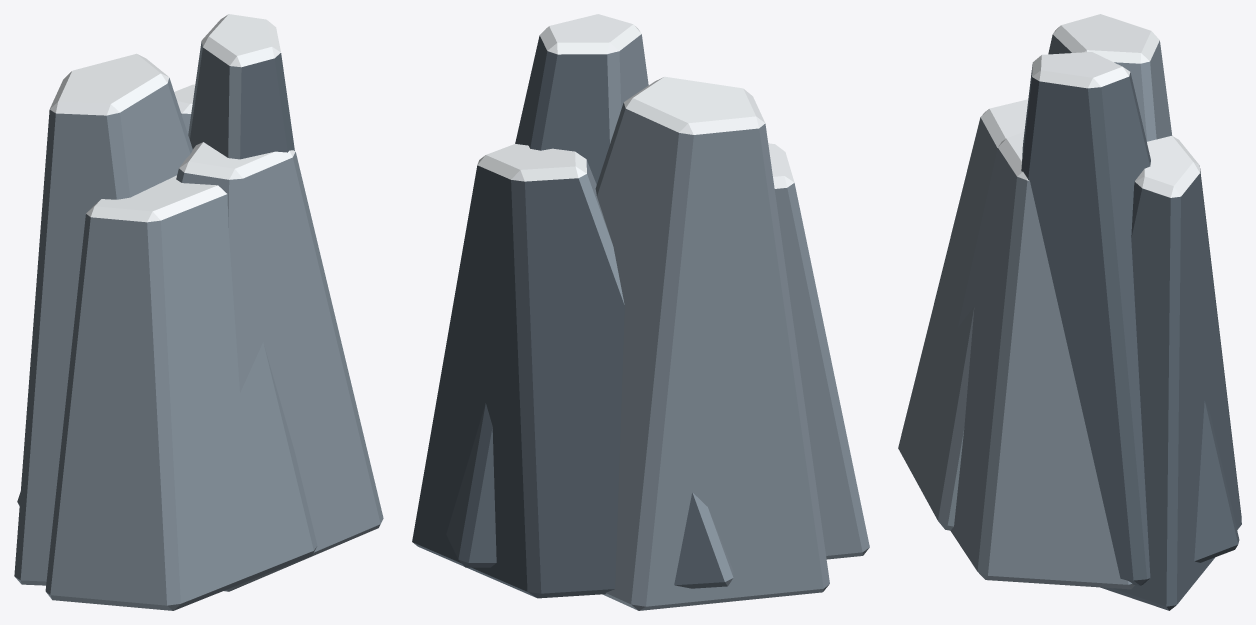
Rendered from Crag_A.fbx.
3 views of the same model, side by side, from view 1: azimuth 30°, elevation 25°; view 2: azimuth 150°, elevation 25°; view 3: azimuth 270°, elevation 25° (orthographic). The views are drawn at different scales.
Visible parts, largest first — view 1: Crag_A; view 2: Crag_A; view 3: Crag_A.
Part boxes in pixels (left/top/right/bottom): Crag_A: left=14, top=14, right=383, bottom=610; Crag_A: left=412, top=14, right=869, bottom=610; Crag_A: left=898, top=14, right=1241, bottom=610.
Size of the model in its own units: 2.48 by 3.31 by 2.1.
